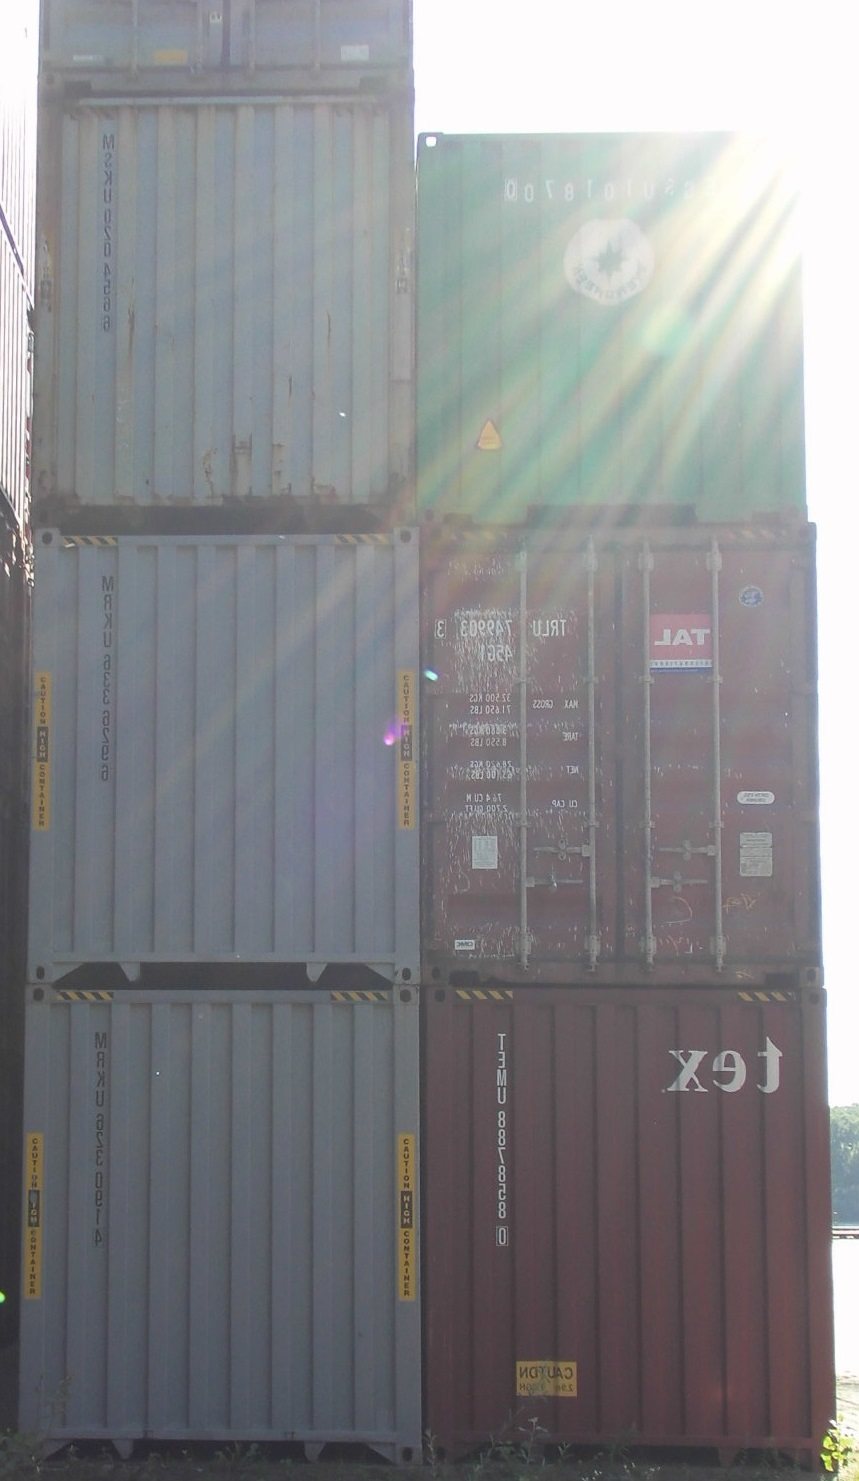container_door: (412, 528, 825, 981)
container_no_door: (431, 986, 835, 1465), (21, 986, 425, 1465), (31, 522, 408, 988), (37, 86, 420, 513), (419, 124, 806, 530)
